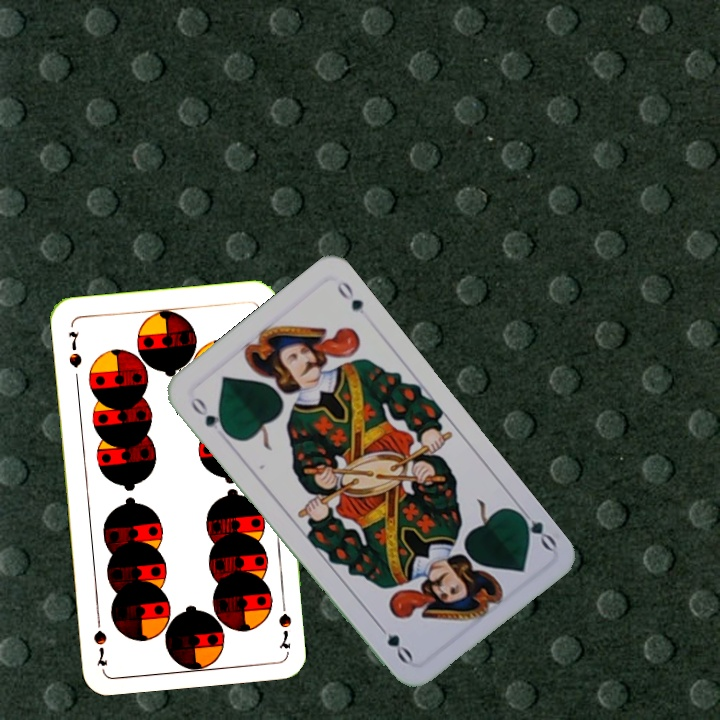GO: (511, 501, 559, 553), (186, 391, 232, 438)
S7: (275, 593, 294, 652), (64, 326, 85, 371)
